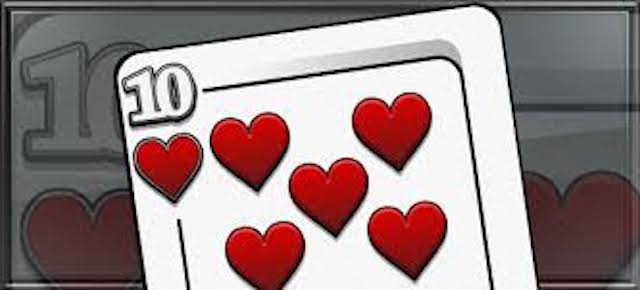TenOfHearts: (106, 34, 532, 287), (15, 34, 132, 290)
